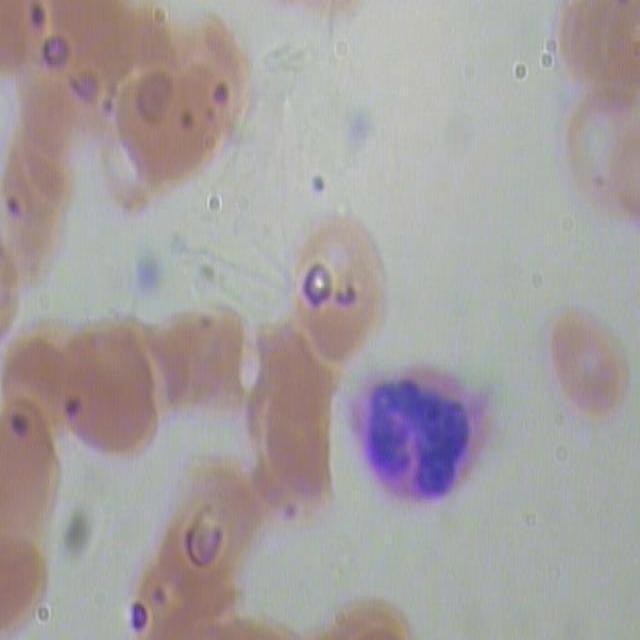Platelets: (341, 106, 380, 154), (129, 252, 168, 300)
RBC: (113, 52, 224, 219), (294, 204, 397, 373), (60, 307, 163, 476), (160, 299, 255, 433), (154, 471, 249, 605), (553, 91, 639, 224), (546, 296, 630, 423), (0, 412, 74, 545)
WBC: (336, 362, 506, 518)
